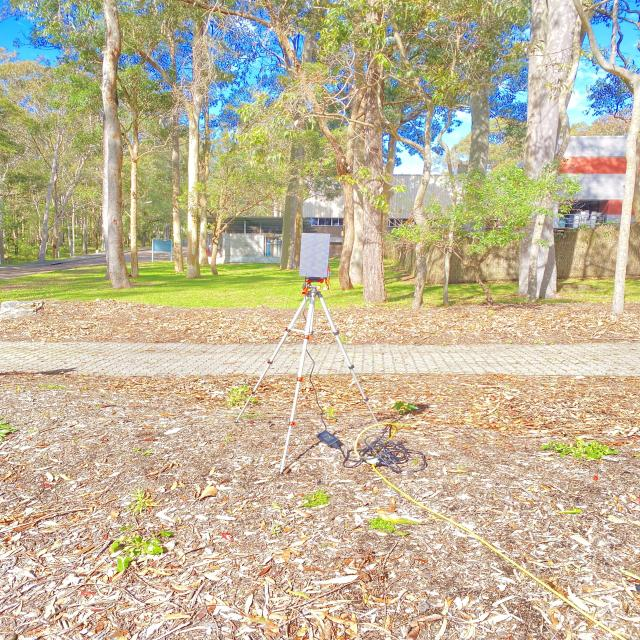matrix: (298, 230, 334, 281)
